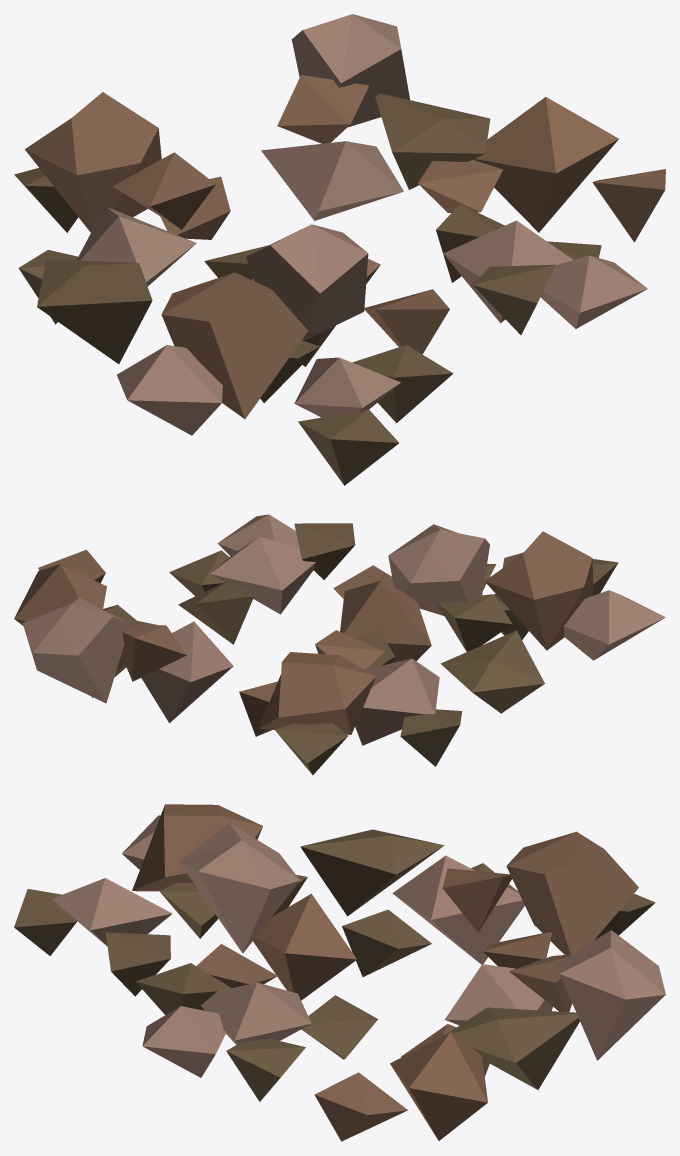
Rendered from entity764692.glb.
3 renders of one model, top to bottom at view 1: azimuth 30°, elevation 25°; view 2: azimuth 150°, elevation 25°; view 3: azimuth 270°, elevation 25°, orthographic. The views are drawn at different scales.
Parts seen in each view (by area): view 1: node_SM_Env_Plant_Small_03 (53); view 2: node_SM_Env_Plant_Small_03 (53); view 3: node_SM_Env_Plant_Small_03 (53).
Part boxes in pixels (x1=…): node_SM_Env_Plant_Small_03 (53): x1=14, y1=14, x2=665, y2=485; node_SM_Env_Plant_Small_03 (53): x1=14, y1=514, x2=665, y2=774; node_SM_Env_Plant_Small_03 (53): x1=14, y1=804, x2=665, y2=1141.
Bounding box in the file's own units: 2.56 × 0.6388 × 2.46.
1 material, 1 textured.
